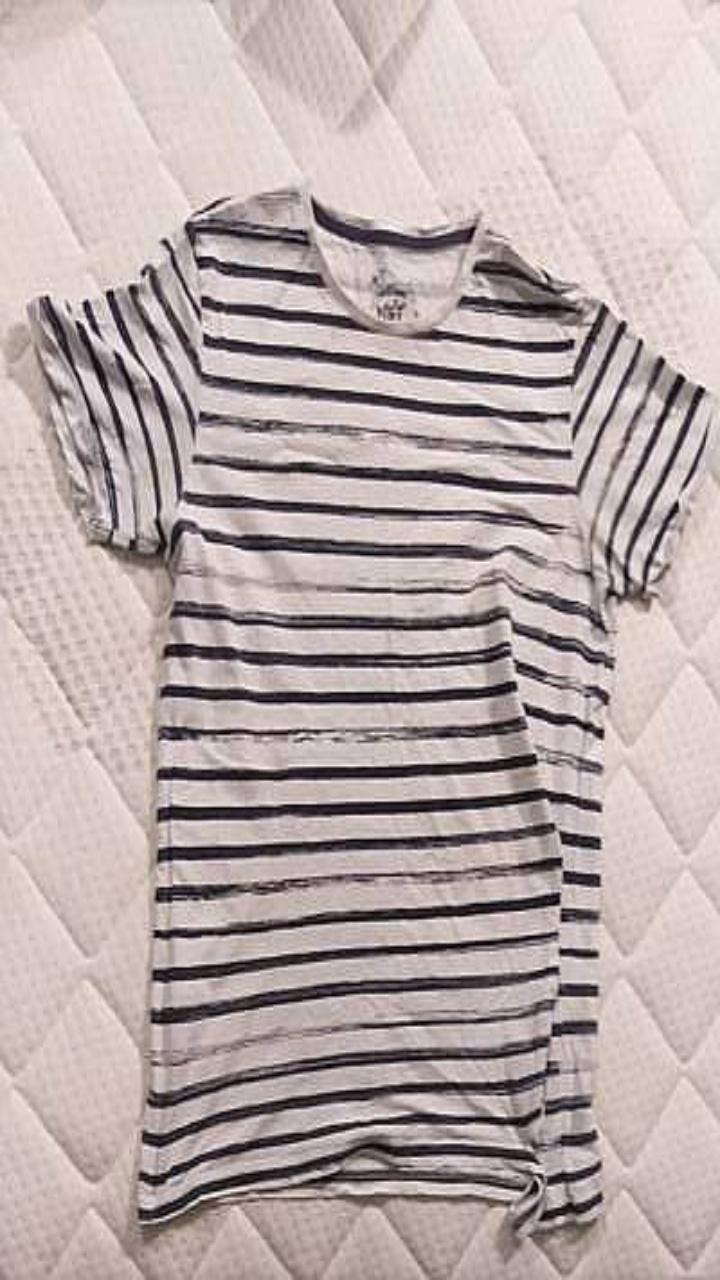T-Shirt: (27, 179, 719, 1236)
